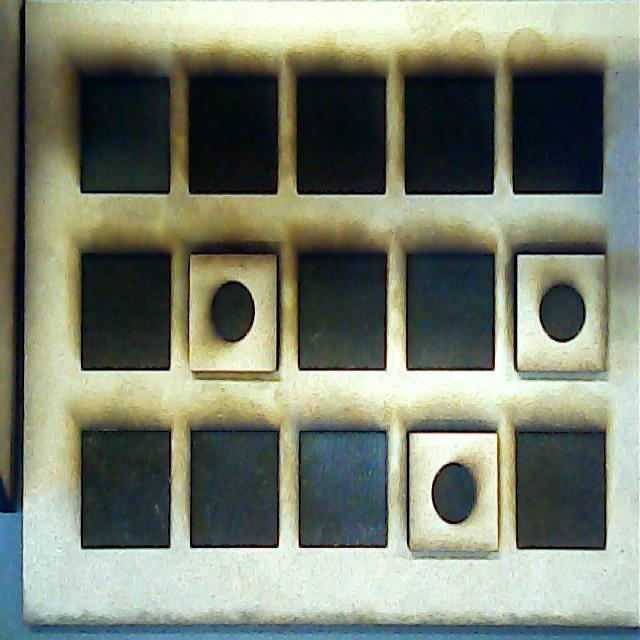circle: (515, 248, 611, 370), (187, 251, 280, 373), (409, 431, 498, 552)
